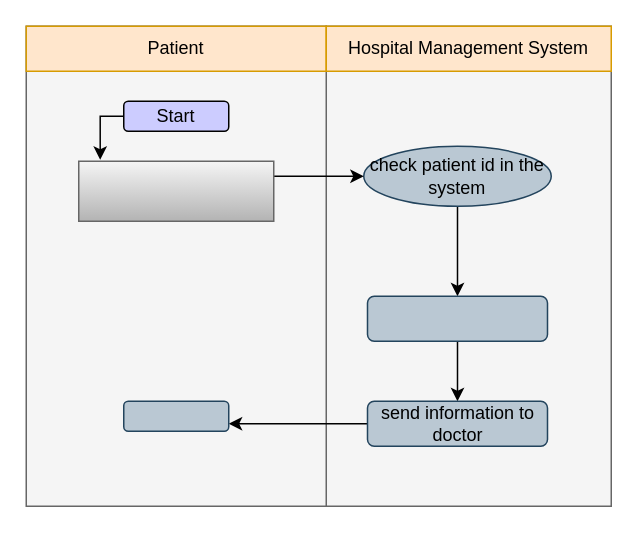
The diagram is 638 pixels wide and 533 high, and some of its shapes have lost their labels. The shapes that lost their labels are listed below. From the top down, each one's centre as x and y in pixels, then its label:
At point 175,190: "Inquire for Adminssion or Check up".
At point 457,318: "retrive medical file".
At point 175,415: "end".
